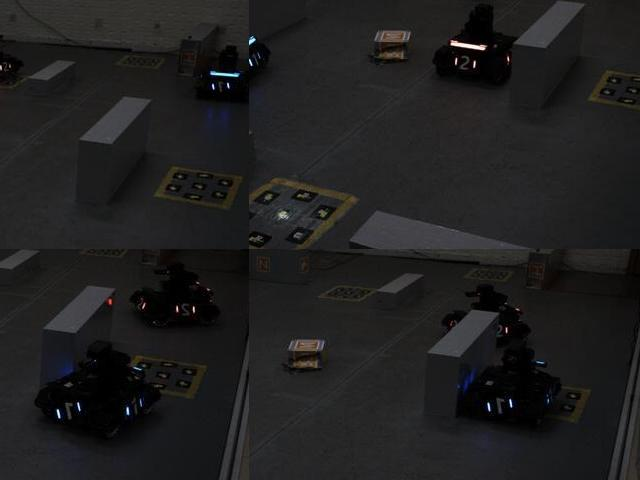armor: (484, 392, 517, 422), (54, 395, 85, 425), (448, 51, 482, 75), (118, 396, 148, 422), (173, 300, 198, 322), (488, 320, 512, 342), (209, 78, 234, 97), (249, 48, 265, 71), (0, 57, 17, 75), (134, 294, 149, 314)
